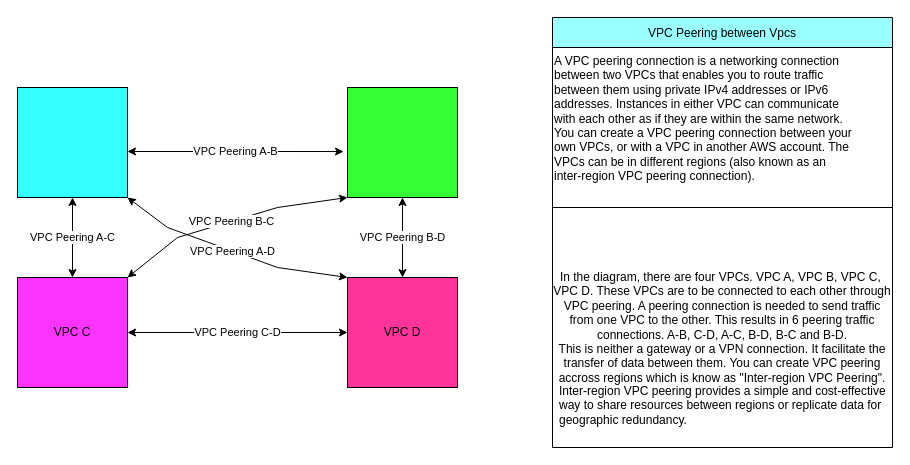
Some shapes in this 910 by 465 pixel diagram are drawn without their labels. The shapes that lost their labels are listed below. From the top down, each one's box as (x1, y1, x2, y2) in pixels, then its label:
(16, 86, 128, 198): VPC A
(346, 86, 458, 198): VPC B
